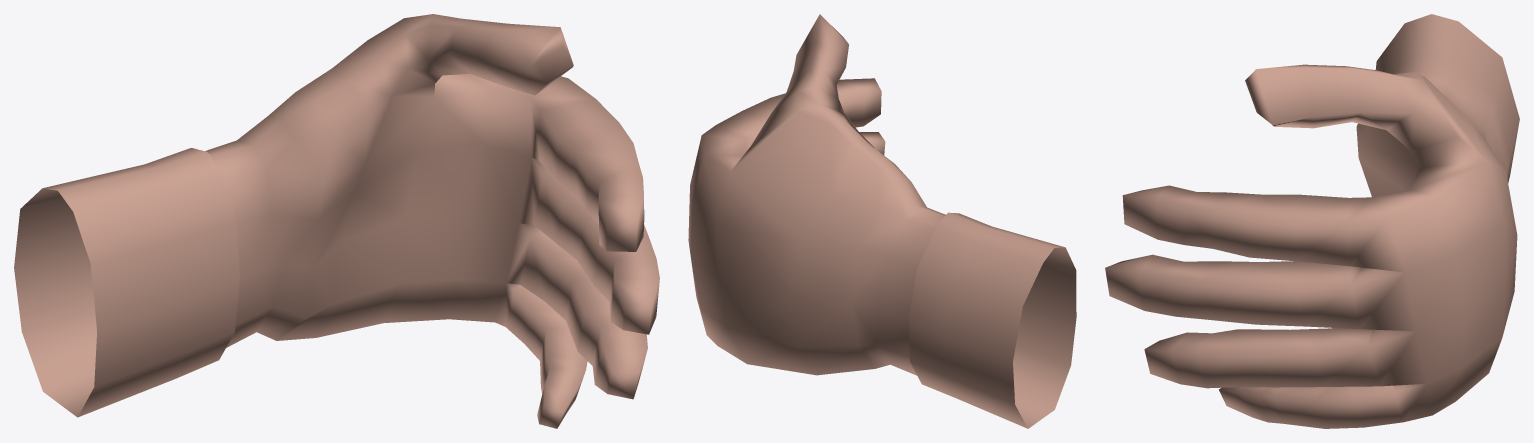
Rendered from handLeft_LP.fbx.
3 renders of one model, left to right at view 1: azimuth 30°, elevation 25°; view 2: azimuth 150°, elevation 25°; view 3: azimuth 270°, elevation 25°, orthographic. The views are drawn at different scales.
Visible parts, largest first — view 1: handLeft_Low; view 2: handLeft_Low; view 3: handLeft_Low.
Part boxes in pixels (left/top/right/bottom): handLeft_Low: left=14, top=14, right=659, bottom=428; handLeft_Low: left=688, top=14, right=1076, bottom=428; handLeft_Low: left=1105, top=14, right=1519, bottom=428.
Size of the model in its own units: 23.95 by 17.84 by 19.34.
